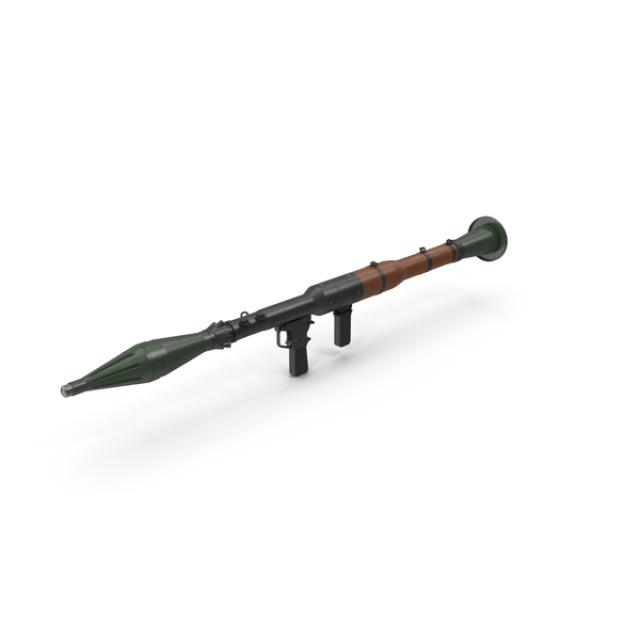bazooka: (47, 189, 530, 464)
